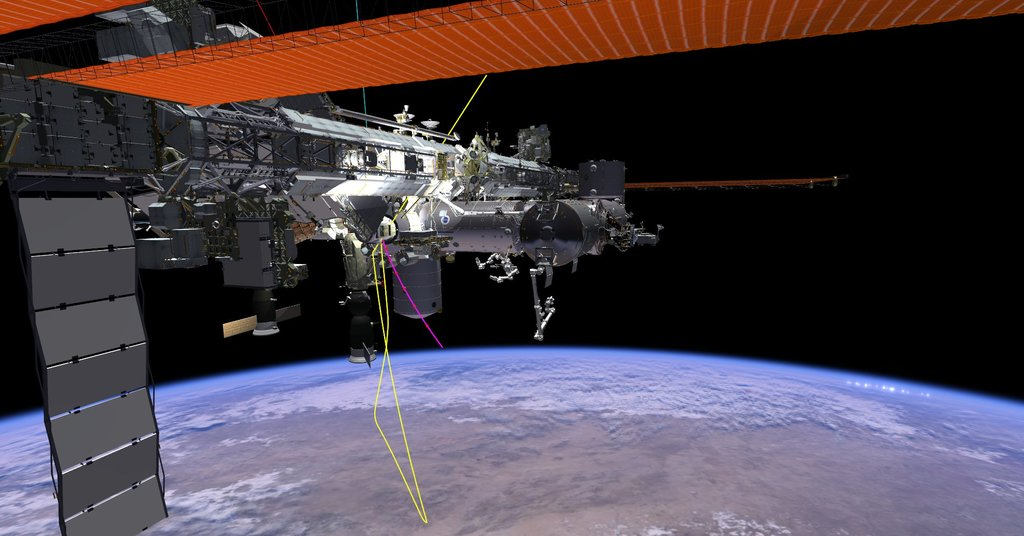person: (285, 213, 349, 344)
